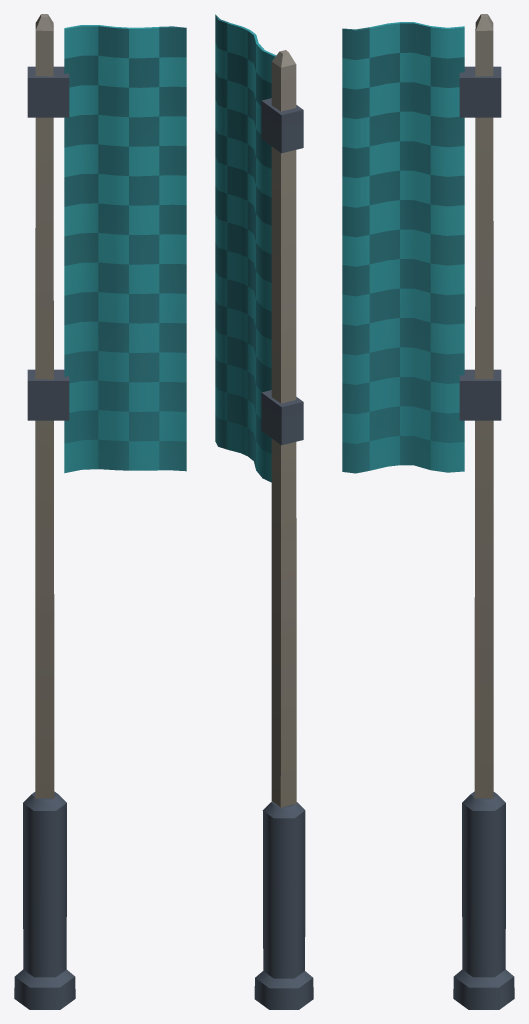
Rendered from FlagRace_D.fbx.
3 renders of one model, left to right at view 1: azimuth 90°, elevation 25°; view 2: azimuth 210°, elevation 25°; view 3: azimuth 270°, elevation 25°, orthographic. The views are drawn at different scales.
Parts seen in each view (by area): view 1: FlagRace_D; view 2: FlagRace_D; view 3: FlagRace_D.
Part boxes in pixels (x1=…): FlagRace_D: x1=14, y1=14, x2=186, y2=1009; FlagRace_D: x1=215, y1=14, x2=313, y2=1009; FlagRace_D: x1=342, y1=14, x2=514, y2=1009.
Bounding box in the file's own units: 62.3 × 1269 × 202.
